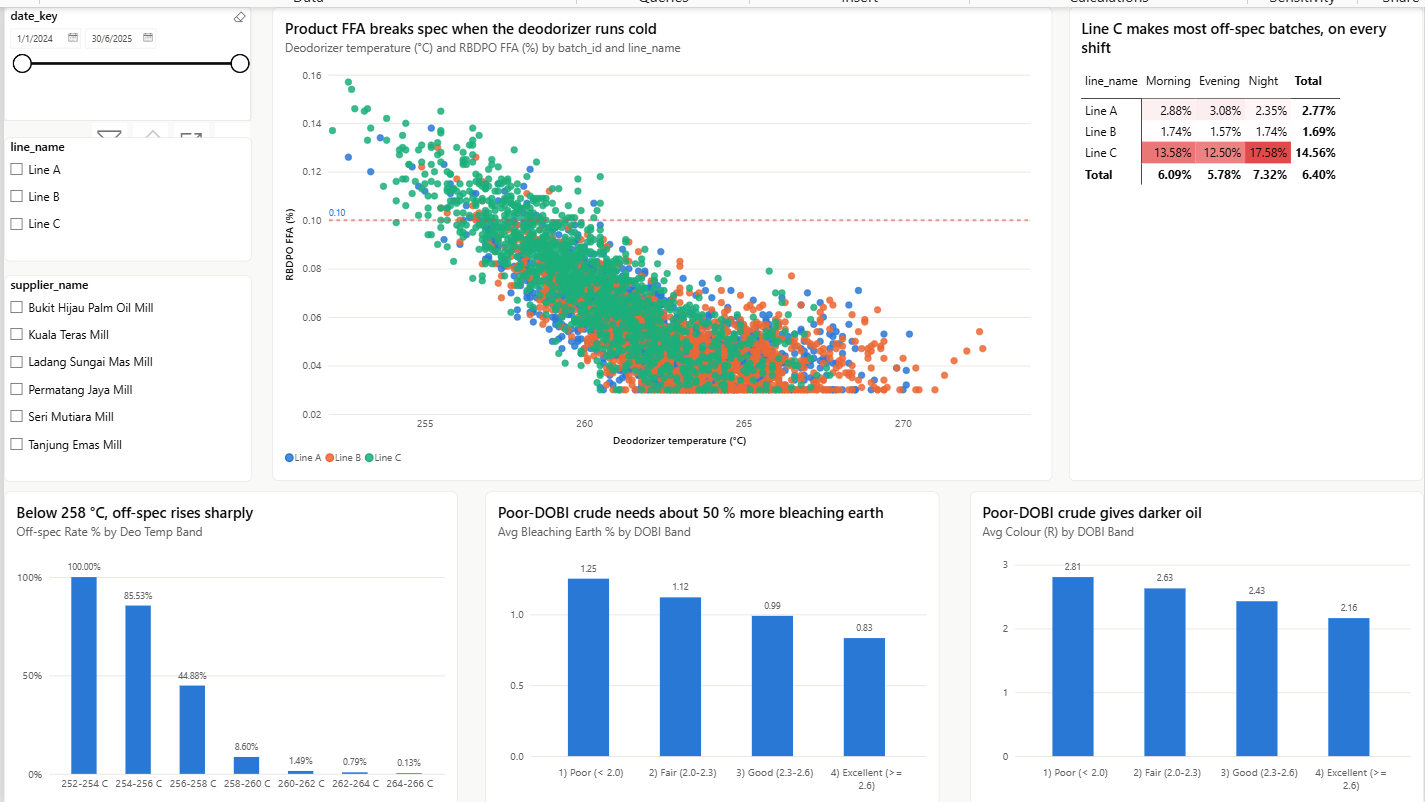

The dashboard page shown, as its layout file describes it:
{"tool":"powerbi","page":{"name":"Quality & Process","canvas":[1920,1080],"ordinal":1},"visuals":[{"type":"slicer","fields":{"Values":["dim_date.date_key"]},"box":[0,0,335.1,154.1],"z":0},{"type":"slicer","fields":{"Values":["dim_line.line_name"]},"box":[0,175.7,335.1,167.6],"z":1000},{"type":"slicer","fields":{"Values":["dim_supplier.supplier_name"]},"box":[0,362.2,335.1,278.4],"z":2000},{"type":"scatterChart","title":"Product FFA breaks spec when the deodorizer runs cold","fields":{"Category":["fact_batch.batch_id"],"Series":["dim_line.line_name"],"X":["Sum(fact_batch.deo_temp_c)"],"Y":["Sum(fact_batch.rbdpo_ffa_pct)"]},"box":[362.2,0,1054.1,640.5],"z":3000},{"type":"pivotTable","title":"Line C makes most off-spec batches, on every shift","fields":{"Columns":["fact_batch.shift"],"Rows":["dim_line.line_name"],"Values":["_Measures.Off-spec Rate %"]},"box":[1440.5,0,478.4,640.5],"z":4000},{"type":"clusteredColumnChart","title":"Below 258 °C, off-spec rises sharply","fields":{"Category":["fact_batch.Deo Temp Band"],"Y":["_Measures.Off-spec Rate %"]},"box":[0,654.1,613.5,427],"z":4001},{"type":"clusteredColumnChart","title":"Poor-DOBI crude needs about 50 % more bleaching earth","fields":{"Category":["fact_batch.DOBI Band"],"Y":["_Measures.Avg Bleaching Earth %"]},"box":[651.4,654.1,613.5,427],"z":4002},{"type":"clusteredColumnChart","title":"Poor-DOBI crude gives darker oil","fields":{"Category":["fact_batch.DOBI Band"],"Y":["_Measures.Avg Colour (R)"]},"box":[1305.4,654.1,613.5,427],"z":4003}]}

Visuals, with their boxes on the page's 1920x1080 design canvas (x1, y1, x2, y2). These are canvas units, not pixel positions in the 1425x802 screenshot, which may show the page scaled, cropped or inside an application window:
slicer - dim_date.date_key: [0,0,335,154]
slicer - dim_line.line_name: [0,176,335,343]
slicer - dim_supplier.supplier_name: [0,362,335,641]
"Product FFA breaks spec when the deodorizer runs cold" scatterChart: [362,0,1416,640]
"Line C makes most off-spec batches, on every shift" pivotTable: [1440,0,1919,640]
"Below 258 °C, off-spec rises sharply" clusteredColumnChart: [0,654,614,1081]
"Poor-DOBI crude needs about 50 % more bleaching earth" clusteredColumnChart: [651,654,1265,1081]
"Poor-DOBI crude gives darker oil" clusteredColumnChart: [1305,654,1919,1081]
